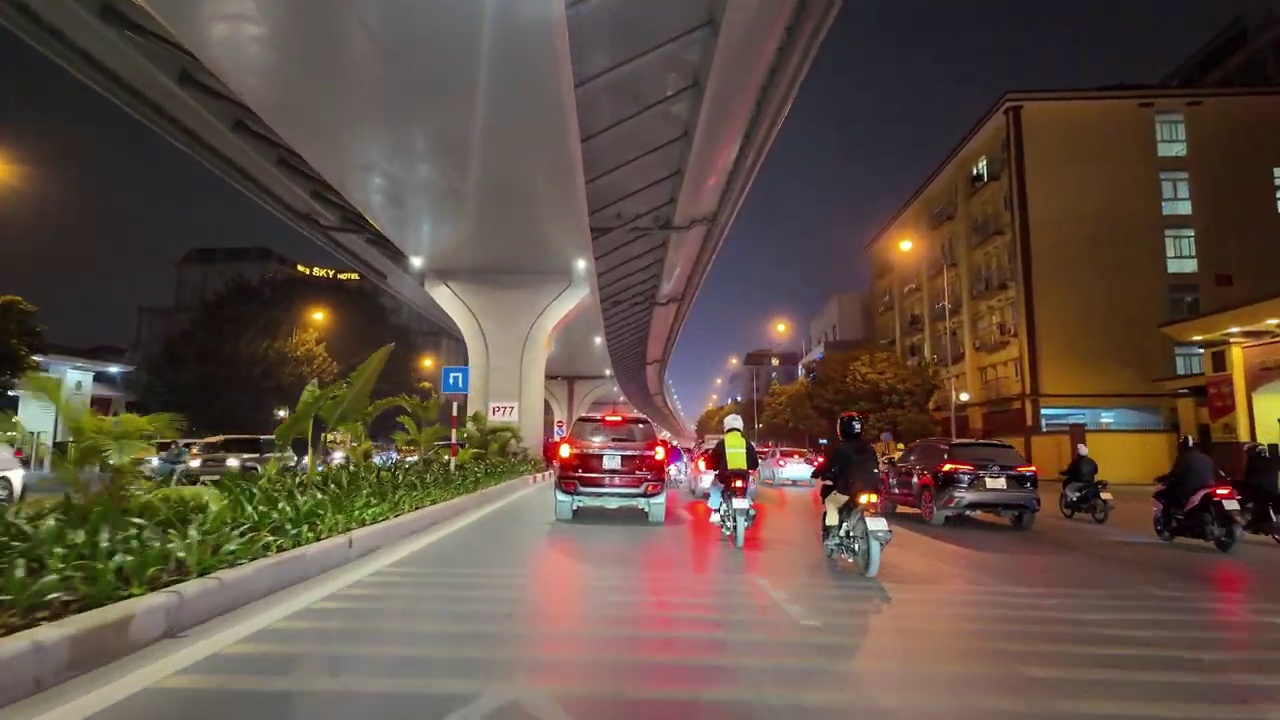acesa: (301, 304, 333, 336), (890, 232, 923, 261), (767, 315, 795, 342), (1, 152, 13, 195)
